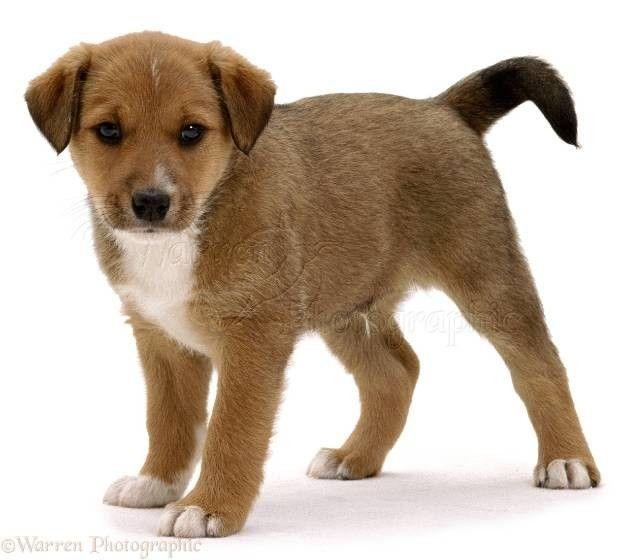puppy-dog: (25, 32, 602, 539)
